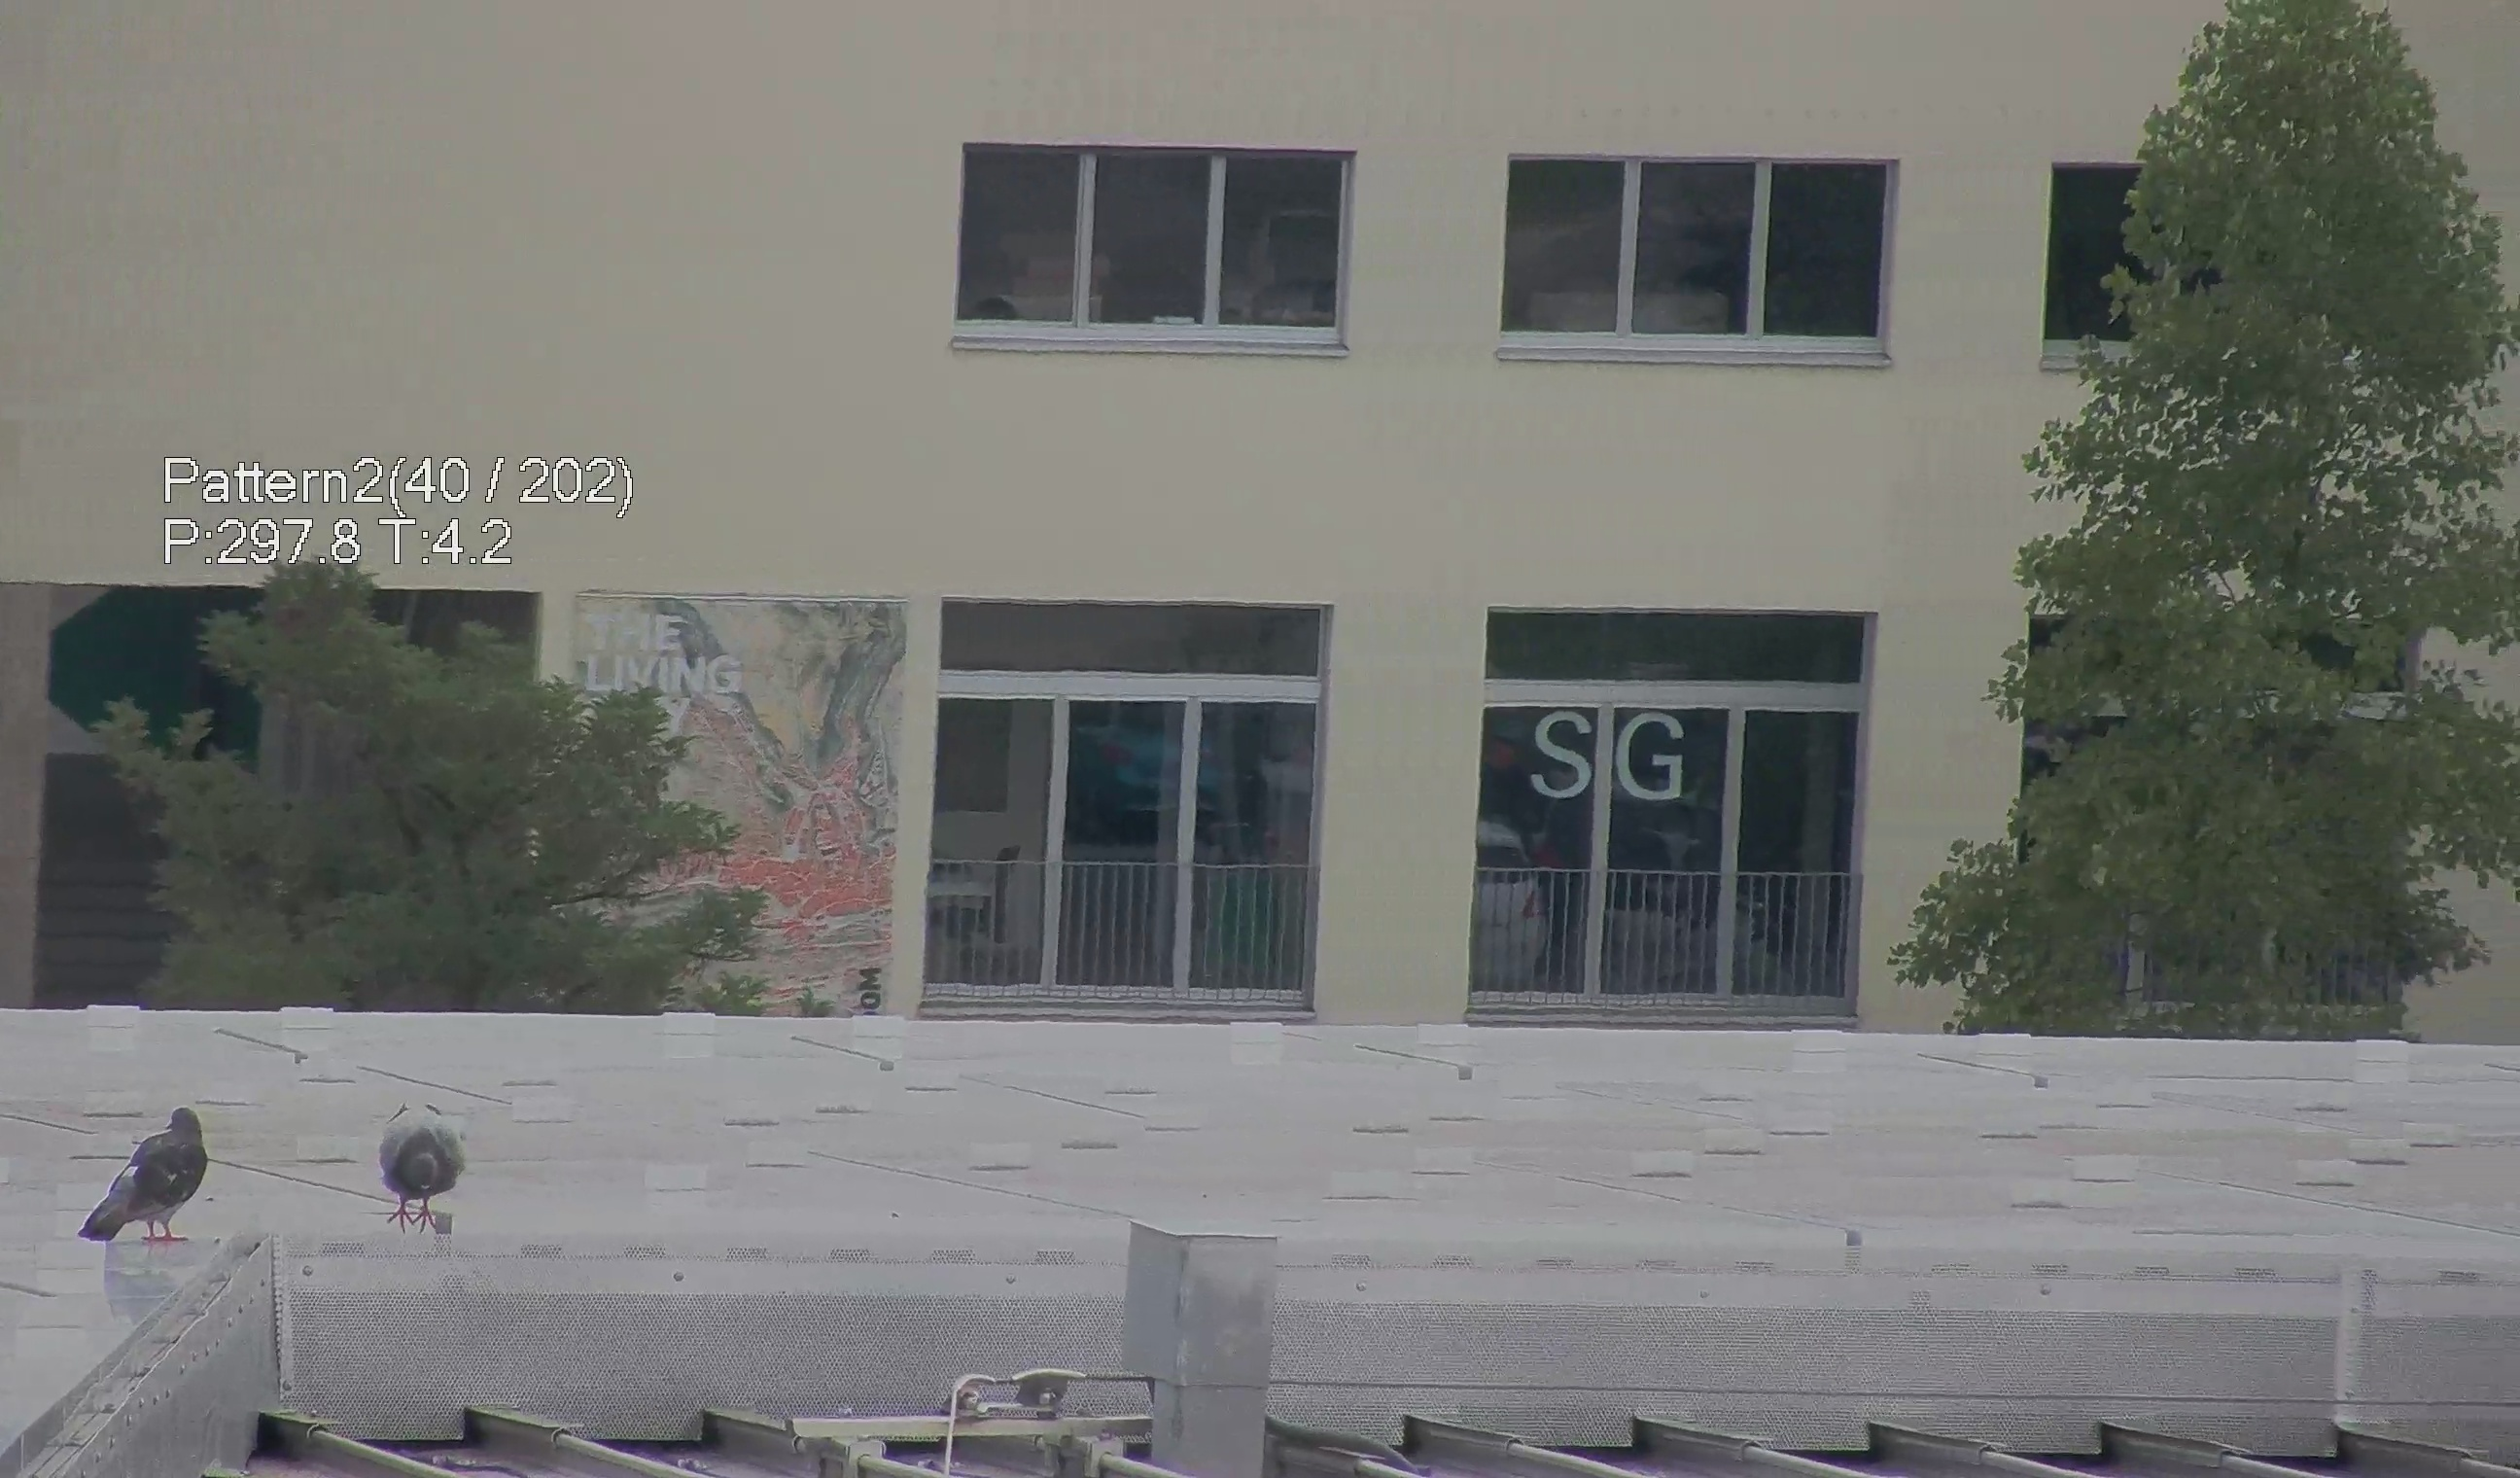Pigeon: (76, 1107, 223, 1265), (355, 1098, 464, 1246)
